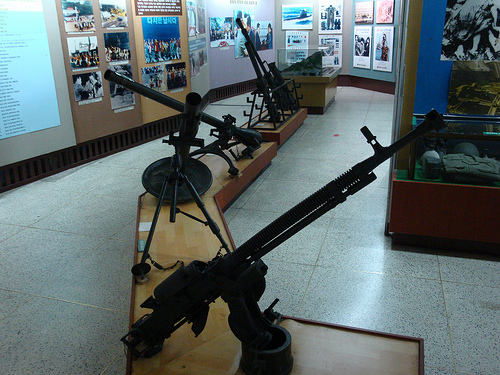rifle: (118, 157, 441, 358), (105, 67, 265, 143), (228, 14, 286, 78)
